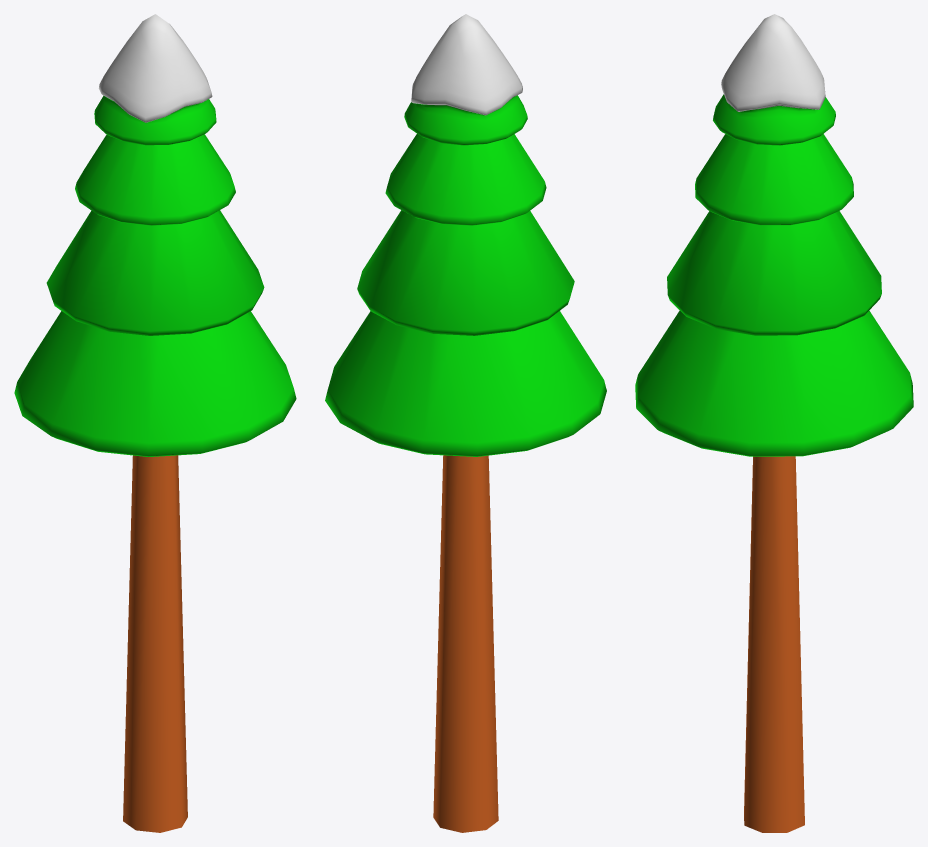
Rendered from tree.fbx.
The picture shows the model from 3 angles, left to right: view 1: azimuth 30°, elevation 25°; view 2: azimuth 150°, elevation 25°; view 3: azimuth 270°, elevation 25°; orthographic projection.
Parts seen in each view (by area): view 1: Circle; view 2: Circle; view 3: Circle.
Part boxes in pixels (box(x1,y1,x2,y2)): Circle: box(14, 14, 296, 832); Circle: box(325, 14, 606, 832); Circle: box(635, 14, 913, 832).
Size of the model in its own units: 644 by 2055 by 644.
